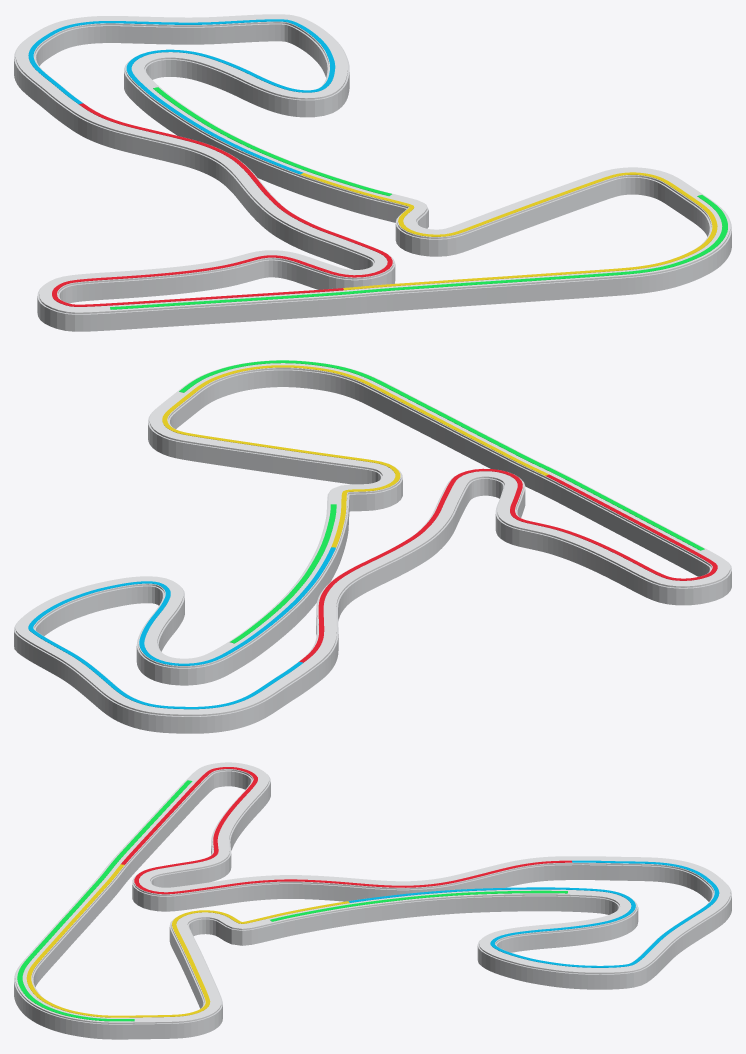
File: ZandvoortCircuit.glb
The picture shows the model from 3 angles, top to bottom: view 1: azimuth 30°, elevation 25°; view 2: azimuth 150°, elevation 25°; view 3: azimuth 270°, elevation 25°; orthographic projection. The views are drawn at different scales.
Visible parts, largest first — view 1: ZandvoortOutline, ZandvoortTrack, SectorStrip_1, SectorStrip_2, SectorStrip_3, DrsStrip_2, DrsStrip_1; view 2: ZandvoortOutline, ZandvoortTrack, SectorStrip_1, SectorStrip_2, SectorStrip_3, DrsStrip_2, DrsStrip_1; view 3: ZandvoortOutline, ZandvoortTrack, SectorStrip_2, SectorStrip_1, SectorStrip_3, DrsStrip_2, DrsStrip_1.
Boxes of the visible parts, x1,y1,x2,y2 form: ZandvoortOutline: (14,23,731,331); ZandvoortTrack: (15,14,730,313); SectorStrip_1: (52,103,392,306); SectorStrip_2: (28,19,335,174); SectorStrip_3: (300,172,717,290); DrsStrip_2: (110,195,727,309); DrsStrip_1: (153,87,391,195); ZandvoortOutline: (14,369,731,733); ZandvoortTrack: (15,360,730,716); SectorStrip_1: (299,468,717,662); SectorStrip_2: (28,547,335,709); SectorStrip_3: (162,365,548,547); DrsStrip_2: (179,360,704,550); DrsStrip_1: (230,504,336,643); ZandvoortOutline: (14,770,731,1039); ZandvoortTrack: (15,762,730,1023); SectorStrip_2: (348,860,719,967); SectorStrip_1: (121,767,572,894); SectorStrip_3: (26,864,349,1017); DrsStrip_2: (17,780,192,1021); DrsStrip_1: (270,890,567,921).
Size of the model in its own units: 16.52 by 0.497 by 19.17.
